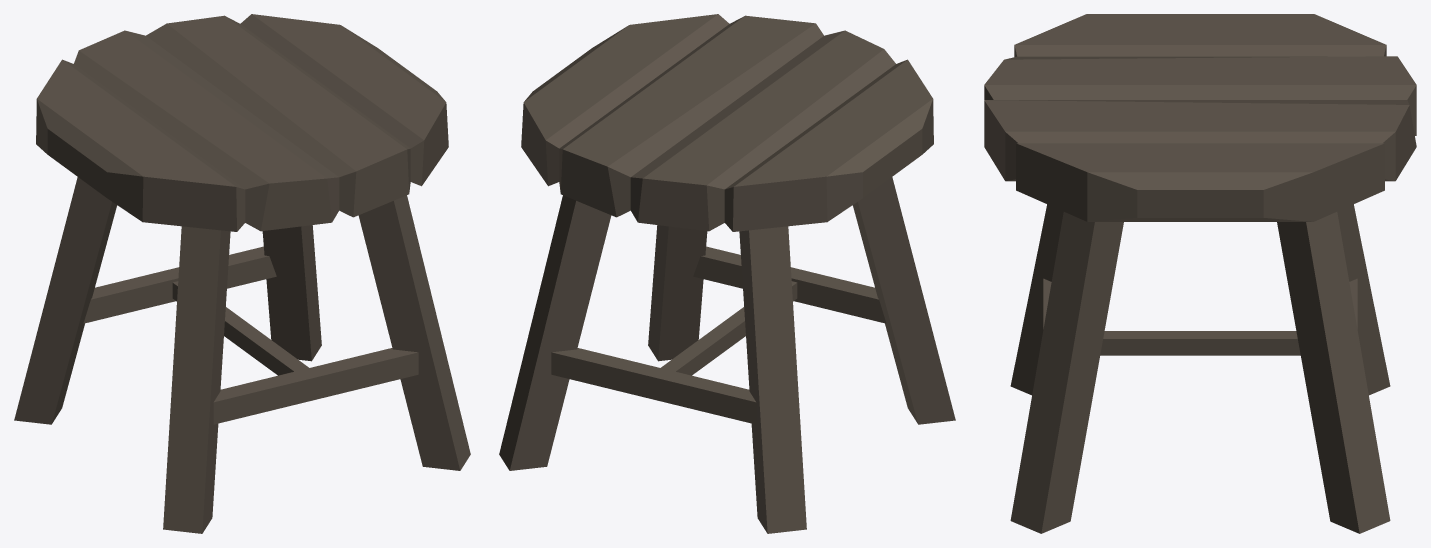
Rendered from tabourets.obj.
3 renders of one model, left to right at view 1: azimuth 30°, elevation 25°; view 2: azimuth 150°, elevation 25°; view 3: azimuth 270°, elevation 25°, orthographic. The views are drawn at different scales.
Parts seen in each view (by area): view 1: SM_Prop_Stool_Round_6_SM_Prop_Stool_Round_01.002; view 2: SM_Prop_Stool_Round_6_SM_Prop_Stool_Round_01.002; view 3: SM_Prop_Stool_Round_6_SM_Prop_Stool_Round_01.002.
Part boxes in pixels (left/top/right/bottom): SM_Prop_Stool_Round_6_SM_Prop_Stool_Round_01.002: left=14, top=14, right=470, bottom=533; SM_Prop_Stool_Round_6_SM_Prop_Stool_Round_01.002: left=499, top=14, right=955, bottom=533; SM_Prop_Stool_Round_6_SM_Prop_Stool_Round_01.002: left=984, top=14, right=1416, bottom=533.
Bounding box in the file's own units: 0.5331 × 0.5197 × 0.5656.
